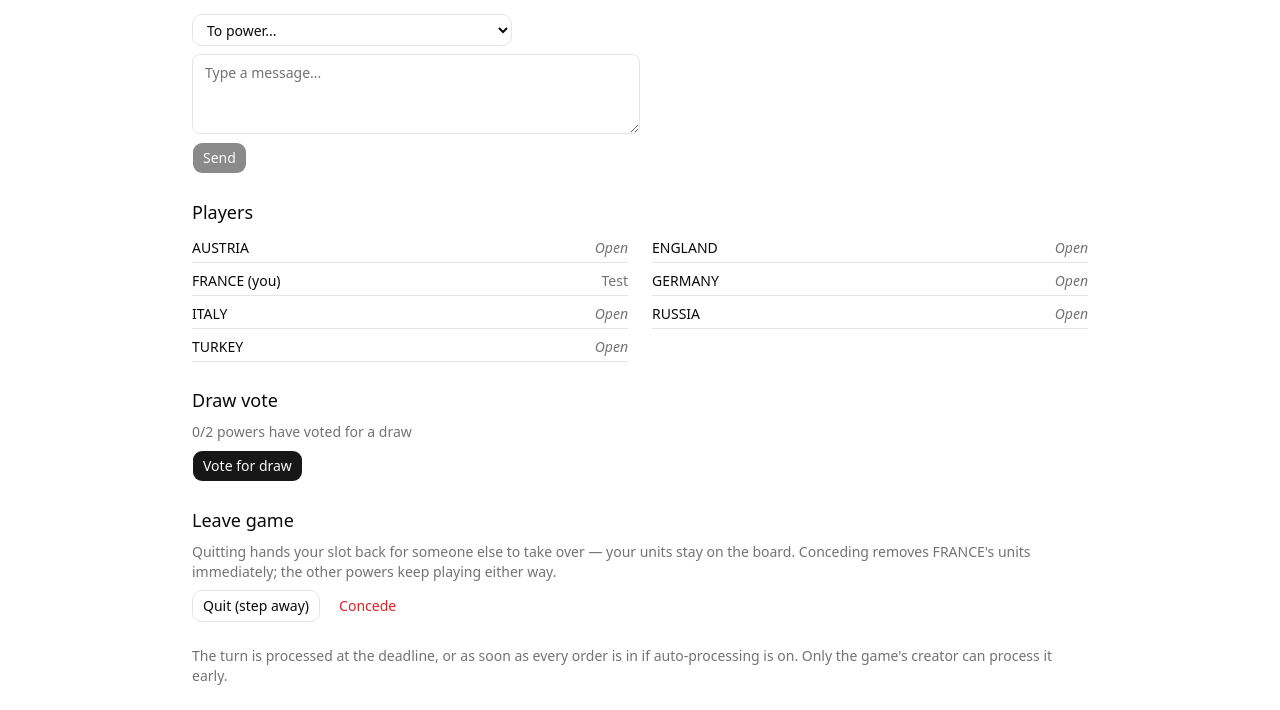
Test case: GameView — draw vote › casts a draw vote and reflects the updated tally
(page scrolled)
Expected: the text "0/2 powers have voted for a draw" is shown, [192, 422, 412, 441]
Click the button "Vote for draw": (247, 466) [192, 450, 303, 482]
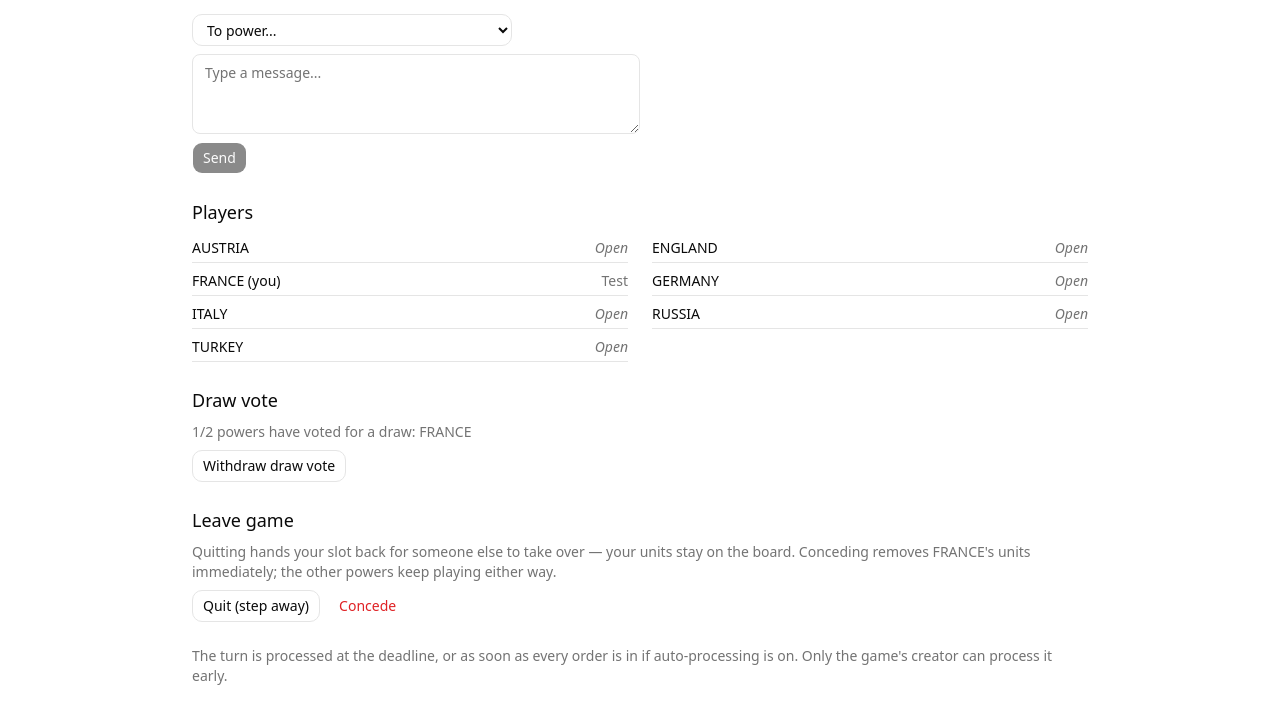
Now the text "1/2 powers have voted for a draw: FRANCE" is shown, box [192, 422, 471, 441]
Now the button "Withdraw draw vote" is shown, box [192, 450, 346, 482]
